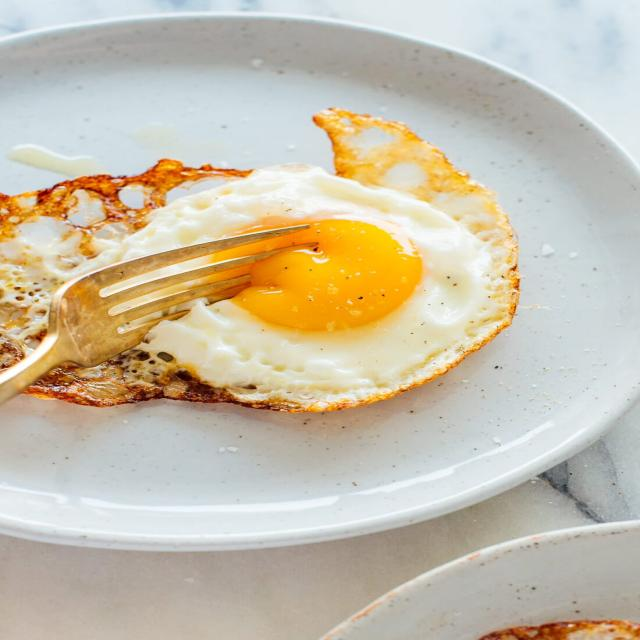Egg: (0, 109, 519, 411)
